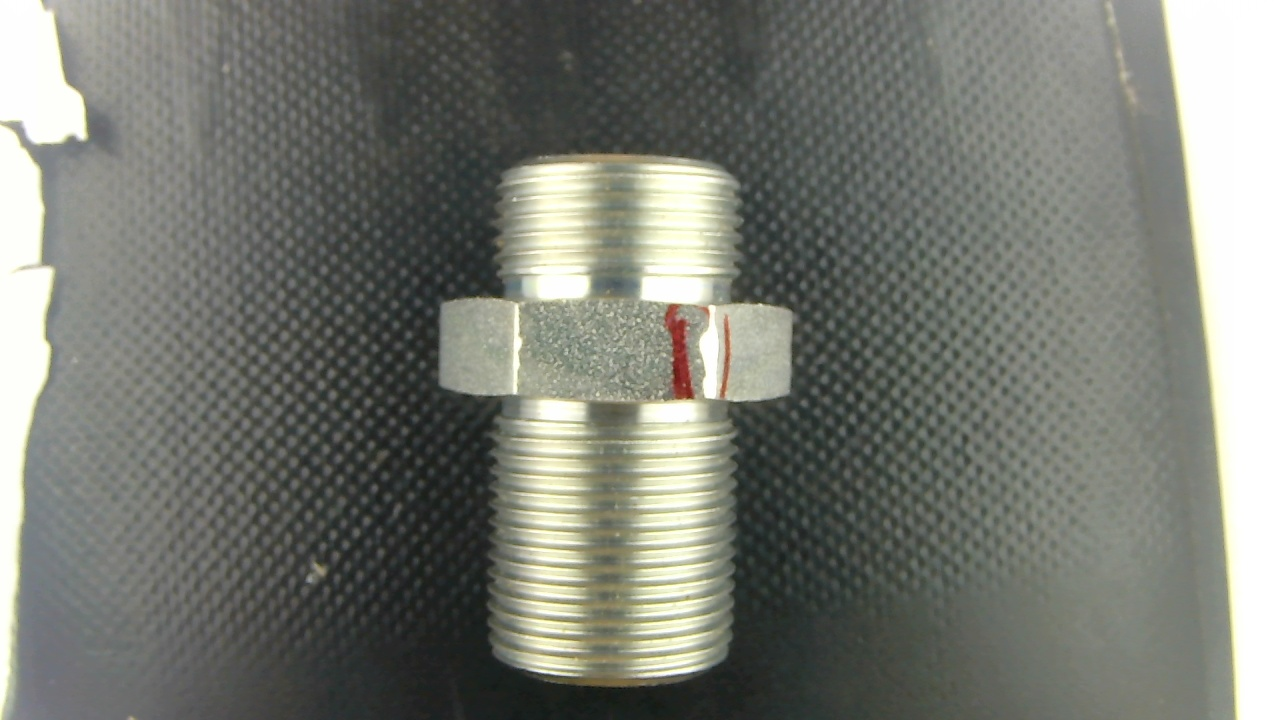Hex_damage: (694, 301, 729, 407)
